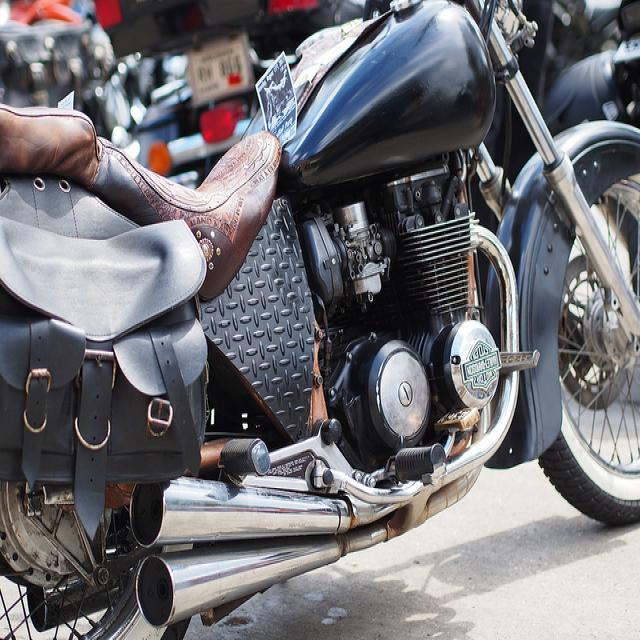motor: (2, 1, 640, 630), (103, 3, 353, 172)
